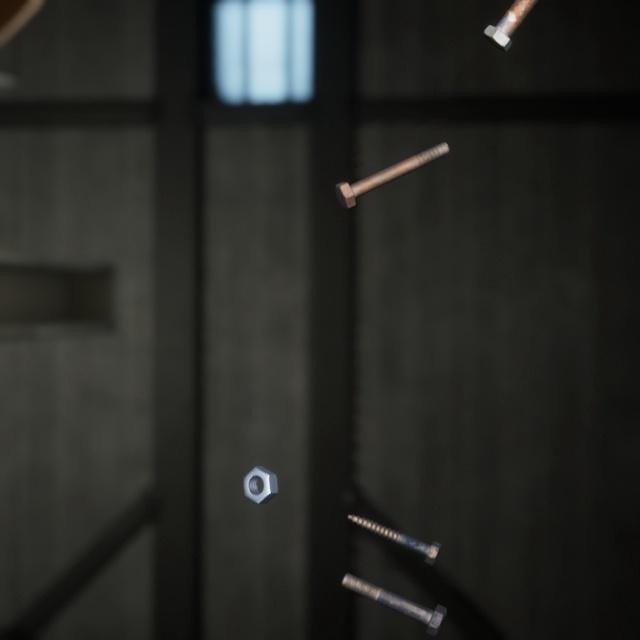bolt: (330, 124, 454, 199), (337, 546, 451, 618), (343, 488, 446, 547), (479, 0, 539, 50)
nut: (238, 440, 282, 486)
